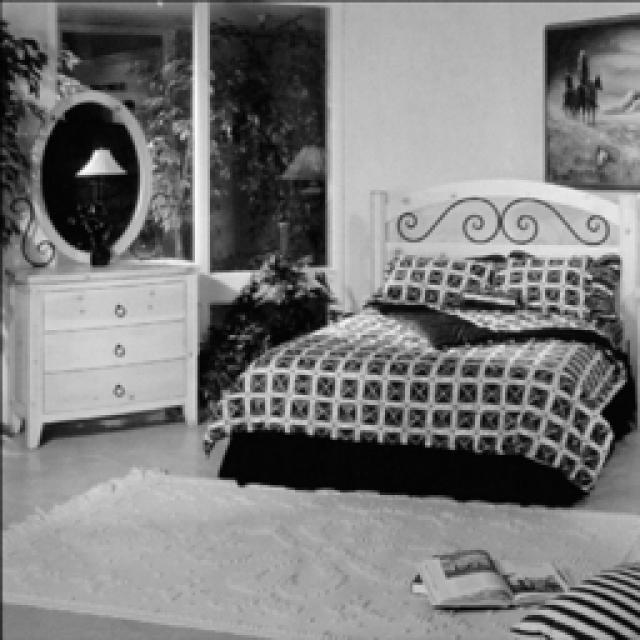2001: (52, 0, 188, 258), (208, 0, 328, 262)
bed -occluded-: (200, 178, 635, 502)
book case: (412, 548, 565, 608)
dresser: (0, 258, 195, 445)
lamp crop: (72, 148, 120, 265), (278, 142, 320, 255)
mirror crop: (30, 88, 148, 260)
painting crop: (542, 12, 638, 188)
pillow occluded: (370, 248, 488, 305), (490, 255, 588, 318)
plant -x: (122, 20, 285, 225), (195, 248, 322, 415), (0, 15, 72, 243)
rug -partially obscured-: (0, 465, 635, 638)
